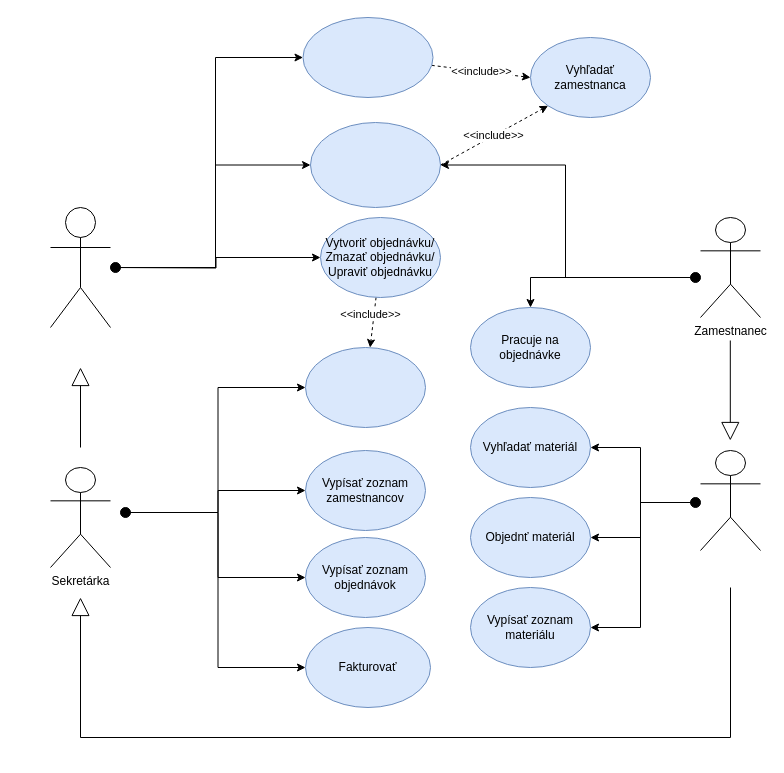
Some shapes in this 784 by 773 pixel diagram are drawn without their labels. The centre of each missing label's shape, as x and y in pixels:
"Pridať zákazníka/ Vymazať zákazníka/ Upraviť údaje o zákazníkovi" goes at (367,57).
"riaditeľ/zástupca riditeľa" goes at (80,267).
"Stavbyvedúci" goes at (730,500).
"Vyhľadať objednávku" goes at (365,387).
"Zamestnať osobu/ Prepustiť osobu/ Upraviť údaje o zamestnancovi" goes at (375,165).
